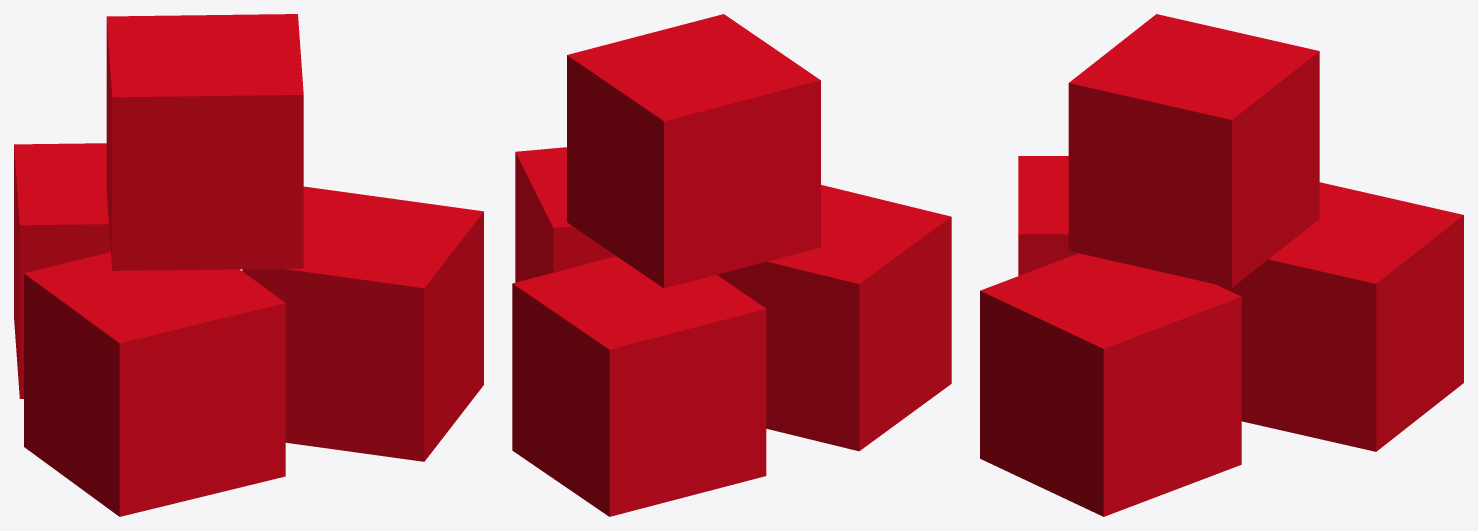
File: kidsplayingbloxKEY.fbx
3 views of the same model, side by side, from view 1: azimuth 30°, elevation 25°; view 2: azimuth 150°, elevation 25°; view 3: azimuth 270°, elevation 25° (orthographic). The views are drawn at different scales.
Visible parts, largest first — view 1: Cube; view 2: Cube; view 3: Cube.
Boxes of the visible parts, x1,y1,x2,y2 form: Cube: (14, 14, 483, 516); Cube: (512, 14, 951, 516); Cube: (980, 14, 1463, 516).
Bounding box in the file's own units: 493 × 405 × 522.
